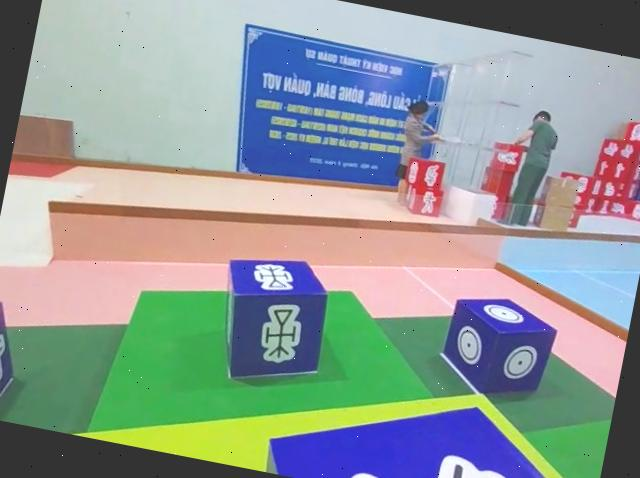R2 Real Blue: (260, 368, 608, 478), (205, 248, 336, 396), (434, 287, 561, 406), (0, 298, 26, 421)
